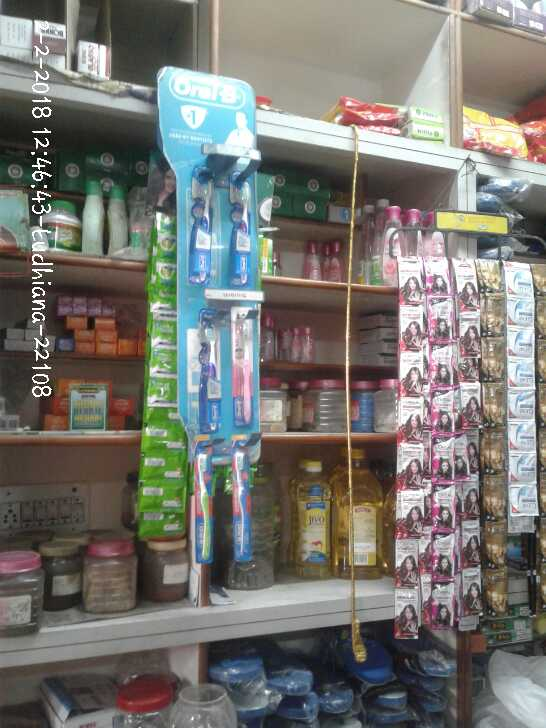oralb: (230, 308, 266, 432), (200, 312, 228, 437), (189, 445, 217, 565), (227, 451, 255, 564), (194, 167, 217, 285), (236, 174, 256, 284)
